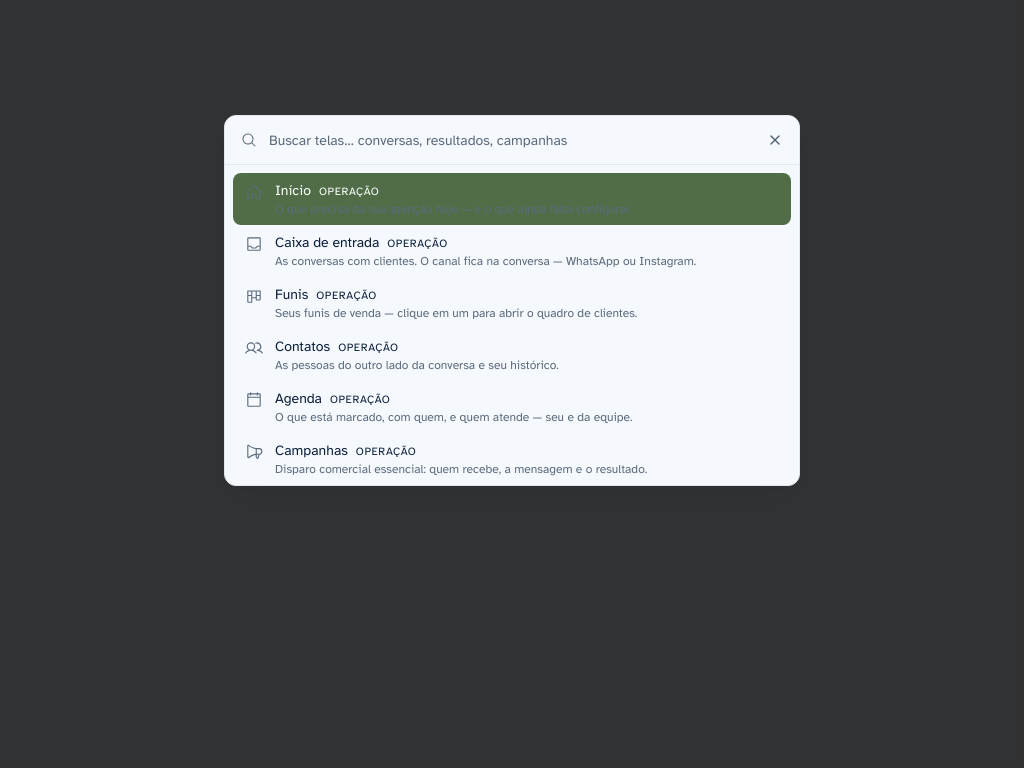
CommandPalette › acha Desempenho quando a pessoa procura resultados
The width and height of the screenshot is (1024, 768).
Type "resultados" into the dropdown. click: (526, 140)
box: [269, 116, 783, 164]
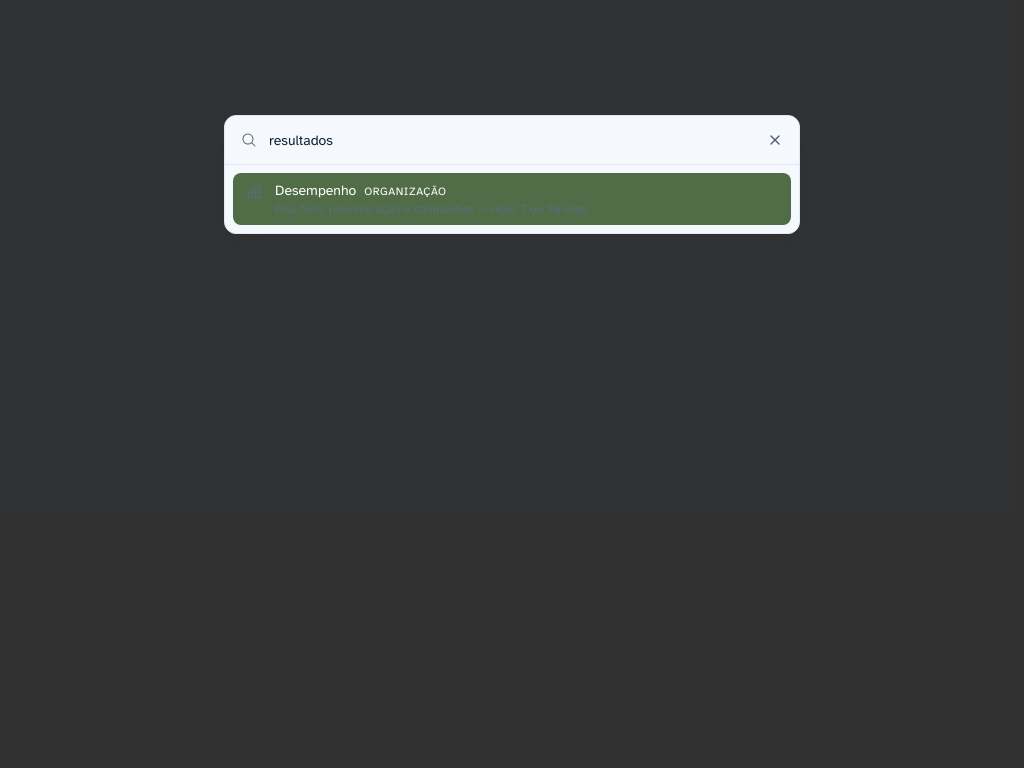
Expected: the option "Desempenho" is shown, [233, 173, 791, 225]
